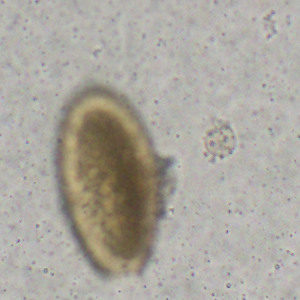Fasciola_hepatica_egg: (55, 85, 160, 279)
